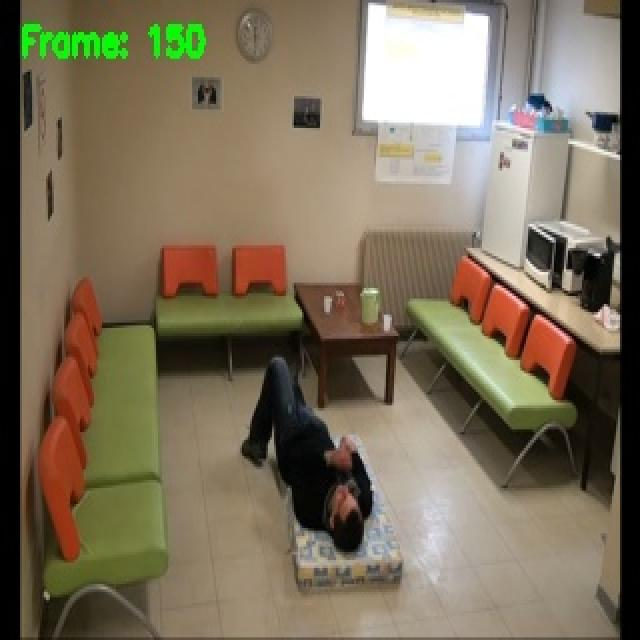Fall: (234, 346, 397, 556)
